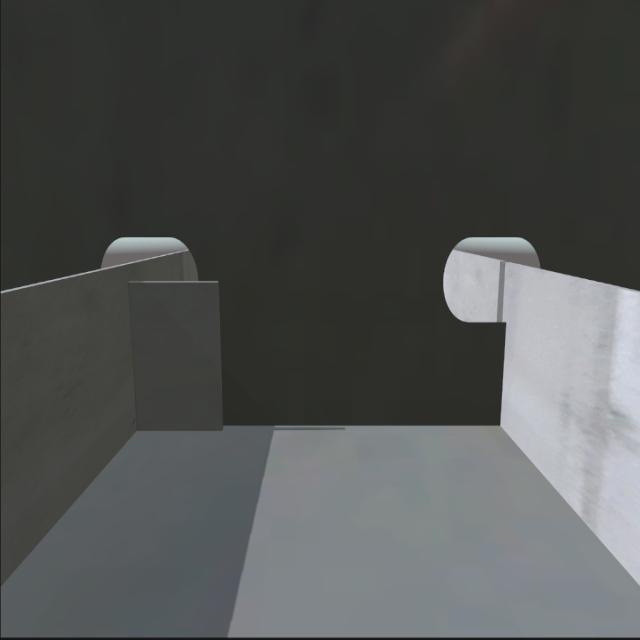fillet_yong_jeop_jang: (136, 417, 510, 434)
longi_yong_jeop_jang: (125, 275, 146, 445), (488, 316, 514, 434)
plate_CP01: (132, 279, 222, 427)
